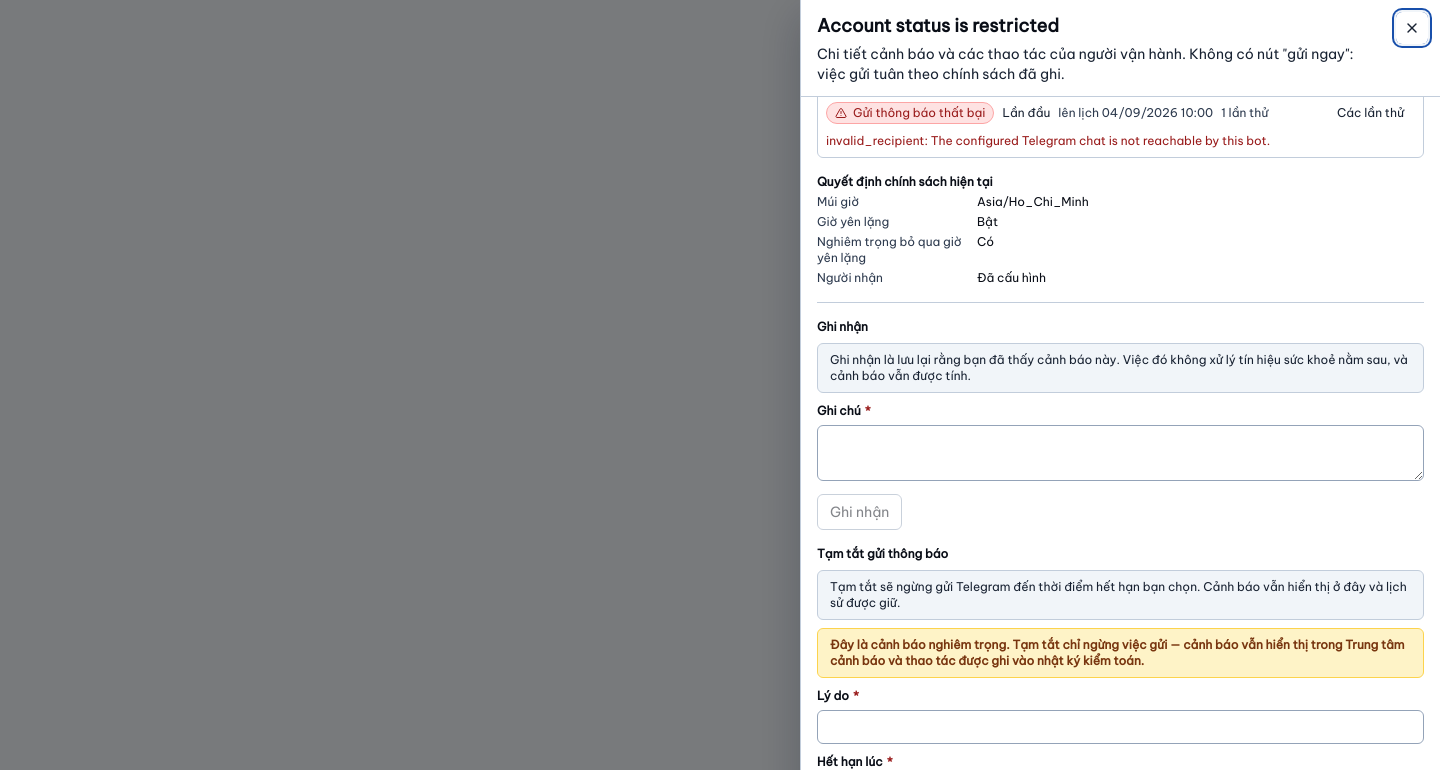
Test: alert drawer › requires a note before acknowledging and a reason before resolving
(page scrolled)
Check: the button "Ghi nhận" is disabled, box [817,494,902,530]
Type "Seen it." into the text box labelled "Ghi chú*". click: (1120, 453)
box: [817,425,1424,481]
(page scrolled)
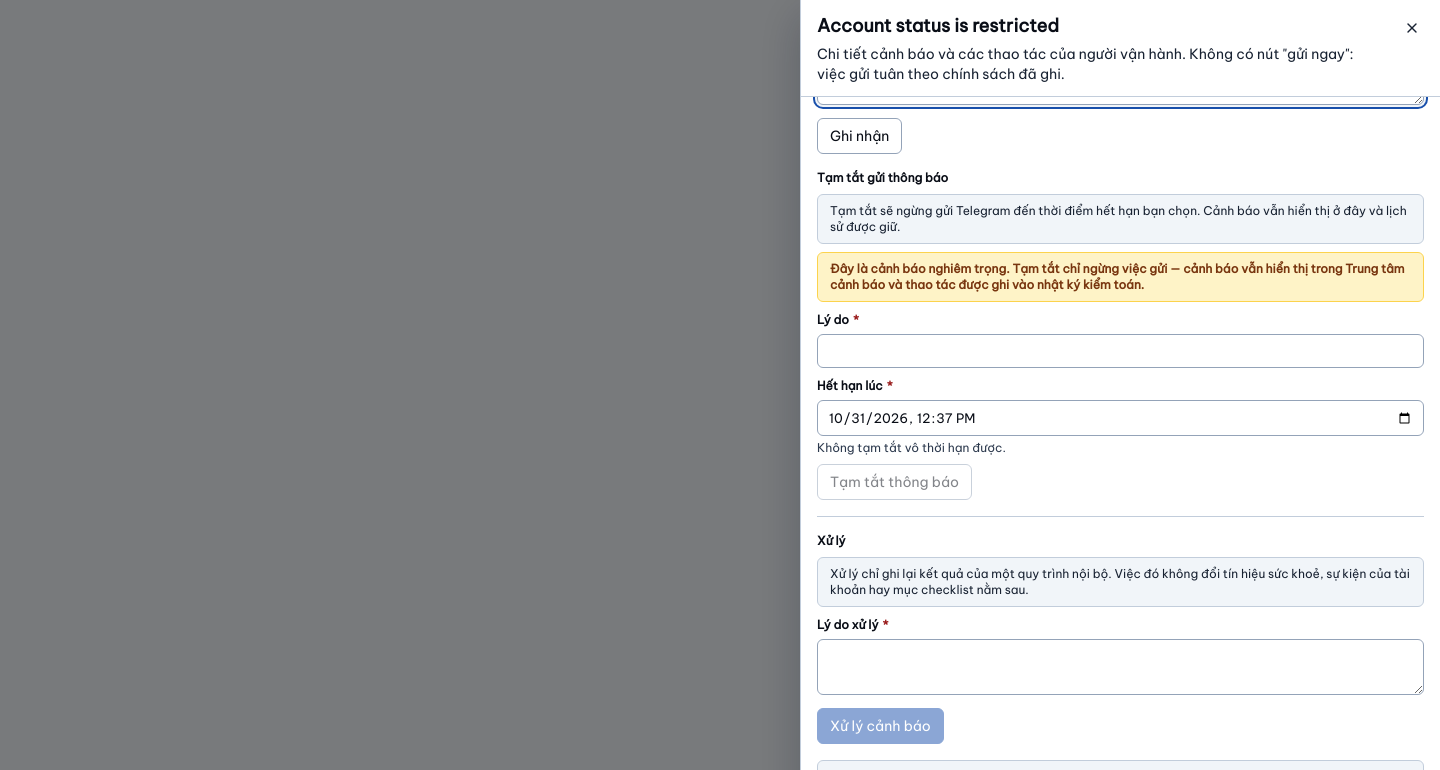
Check: the button "Ghi nhận" is enabled, box [817,118,902,154]
Type "Handled." into the text box labelled "Lý do xử lý*". click: (1120, 667)
box: [817,639,1424,695]
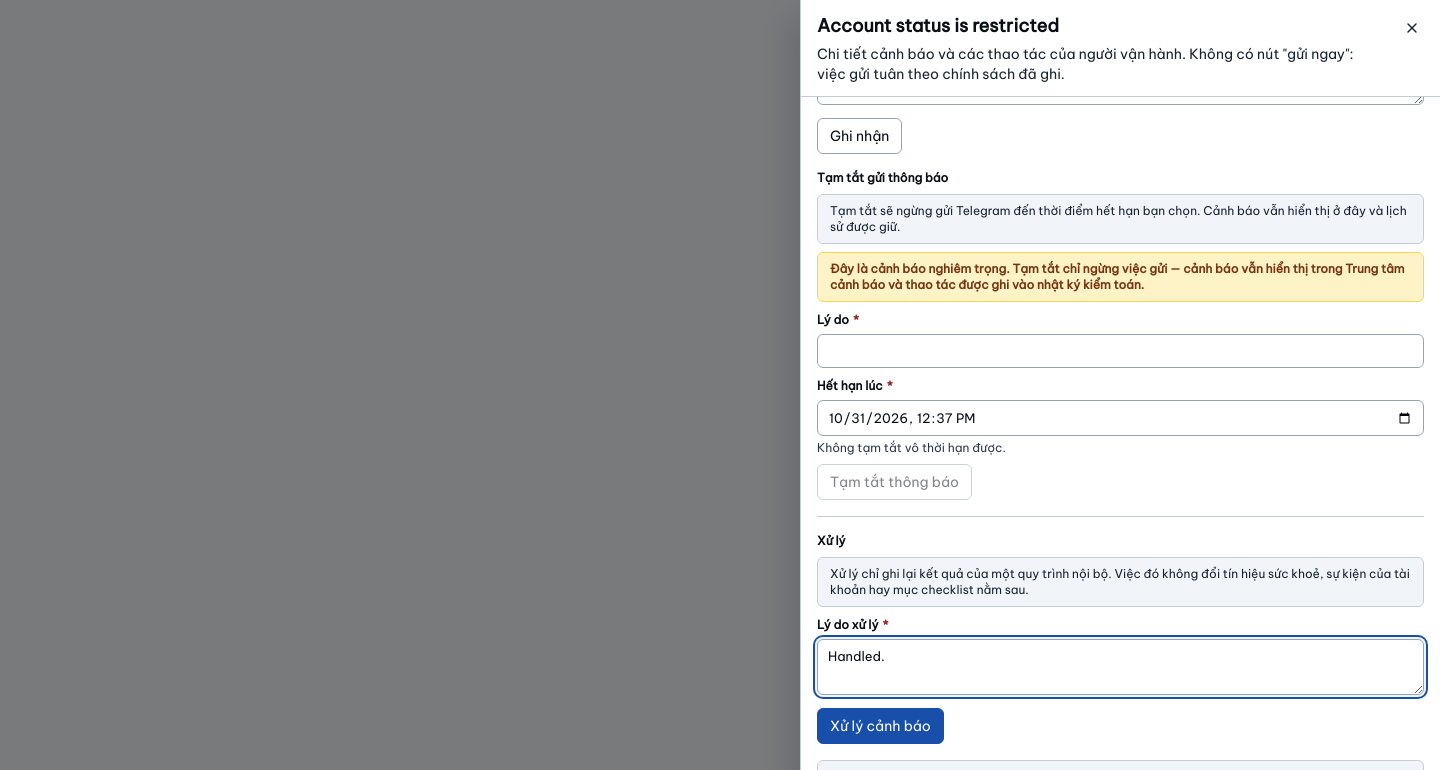
Check: the button "Xử lý cảnh báo" is enabled, box [817,708,944,744]
